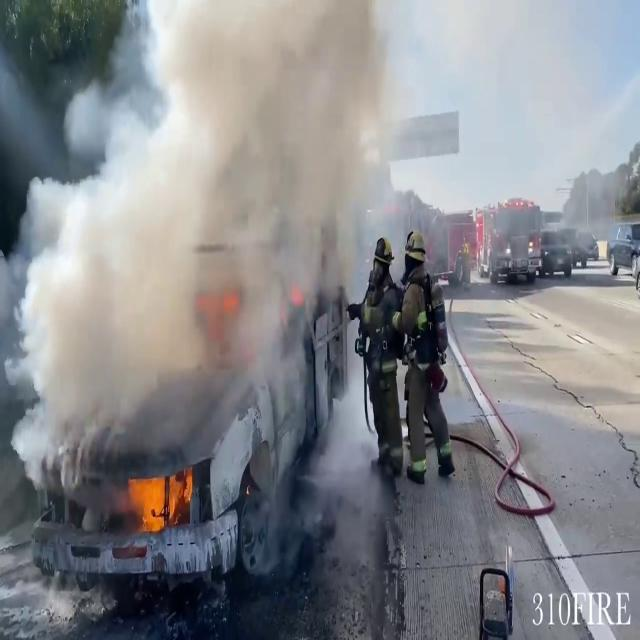Fire: (122, 456, 196, 532)
Smoke: (1, 1, 398, 488)
